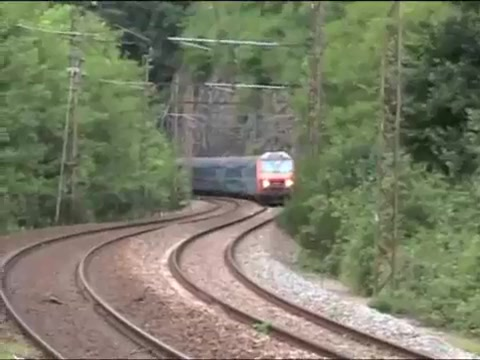train: (189, 152, 297, 206)
